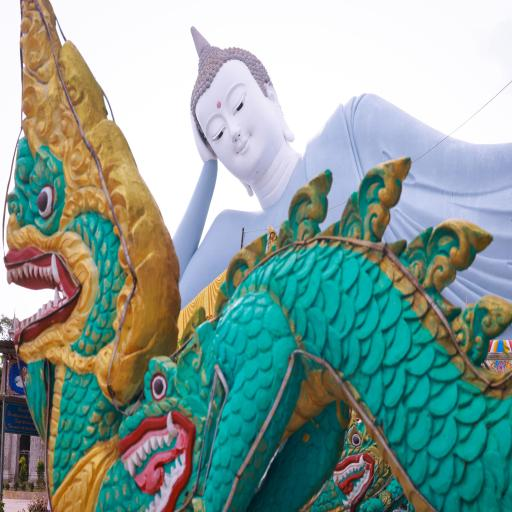lua: (343, 151, 415, 244), (405, 214, 492, 281), (274, 164, 332, 246), (459, 294, 512, 360)
ran: (8, 0, 282, 512), (328, 422, 404, 512)
than: (176, 23, 512, 265)
